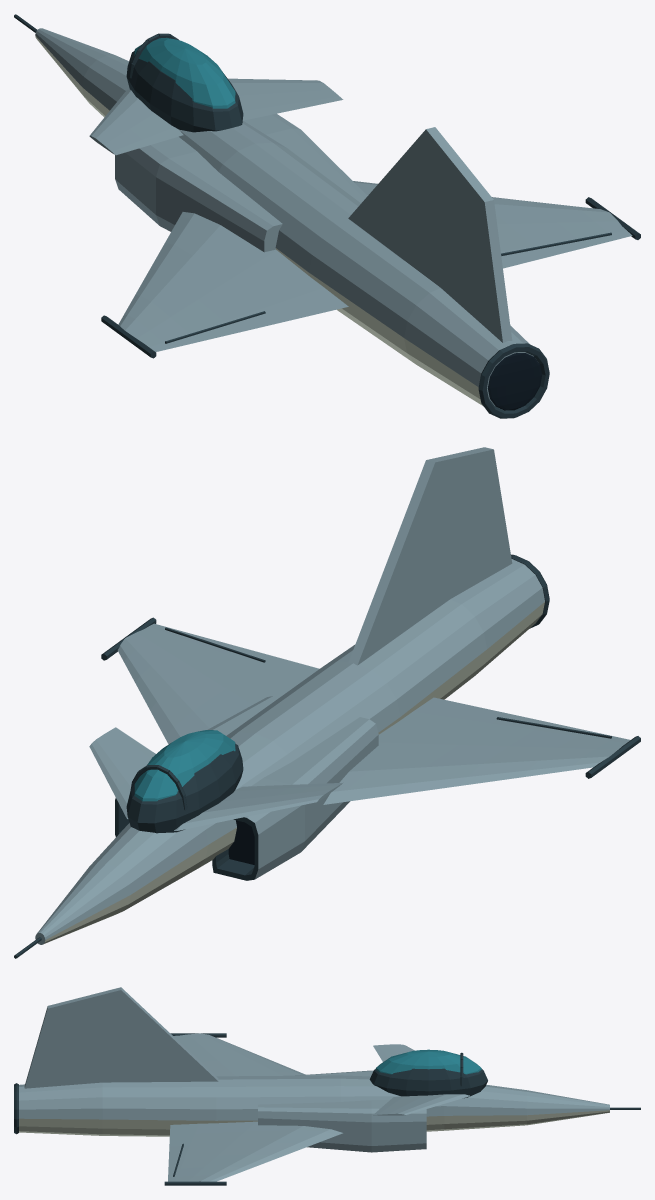
The model's file is archive-gripen-c.glb.
The picture shows the model from 3 angles, top to bottom: view 1: azimuth 30°, elevation 25°; view 2: azimuth 150°, elevation 25°; view 3: azimuth 270°, elevation 25°; orthographic projection. The views are drawn at different scales.
Visible parts, largest first — view 1: archive-gripen-c-fuselage.011-geometry, archive-gripen-c-wing_0_-1.011-geometry, archive-gripen-c-vertical_tail.011-geometry, archive-gripen-c-archive-gripen-c-geometry, archive-gripen-c-intake_0.003-geometry, archive-gripen-c-wing_0_1.011-geometry, archive-gripen-c-canard.002-geometry, archive-gripen-c-canard.003-geometry, archive-gripen-c-intake_1.002-geometry; view 2: archive-gripen-c-fuselage.011-geometry, archive-gripen-c-vertical_tail.011-geometry, archive-gripen-c-wing_0_-1.011-geometry, archive-gripen-c-wing_0_1.011-geometry, archive-gripen-c-archive-gripen-c-geometry, archive-gripen-c-intake_0.003-geometry, archive-gripen-c-canard.002-geometry, archive-gripen-c-canard.003-geometry, archive-gripen-c-intake_1.002-geometry; view 3: archive-gripen-c-fuselage.011-geometry, archive-gripen-c-vertical_tail.011-geometry, archive-gripen-c-wing_0_1.011-geometry, archive-gripen-c-intake_1.002-geometry, archive-gripen-c-archive-gripen-c-geometry, archive-gripen-c-wing_0_-1.011-geometry, archive-gripen-c-canard.003-geometry, archive-gripen-c-canard.002-geometry.
Part boxes in pixels (box(x1,y1,x2,y2)): archive-gripen-c-fuselage.011-geometry: box(35, 28, 533, 409); archive-gripen-c-wing_0_-1.011-geometry: box(118, 212, 348, 351); archive-gripen-c-vertical_tail.011-geometry: box(348, 127, 512, 342); archive-gripen-c-archive-gripen-c-geometry: box(14, 14, 640, 418); archive-gripen-c-intake_0.003-geometry: box(115, 136, 282, 252); archive-gripen-c-wing_0_1.011-geometry: box(353, 181, 632, 268); archive-gripen-c-canard.002-geometry: box(89, 89, 183, 155); archive-gripen-c-canard.003-geometry: box(228, 78, 343, 120); archive-gripen-c-intake_1.002-geometry: box(243, 113, 367, 203); archive-gripen-c-fuselage.011-geometry: box(35, 559, 544, 944); archive-gripen-c-vertical_tail.011-geometry: box(348, 447, 512, 665); archive-gripen-c-wing_0_-1.011-geometry: box(323, 697, 630, 804); archive-gripen-c-wing_0_1.011-geometry: box(117, 623, 319, 744); archive-gripen-c-archive-gripen-c-geometry: box(14, 554, 640, 958); archive-gripen-c-intake_0.003-geometry: box(212, 717, 378, 880); archive-gripen-c-canard.002-geometry: box(174, 782, 343, 830); archive-gripen-c-canard.003-geometry: box(89, 727, 155, 818); archive-gripen-c-intake_1.002-geometry: box(115, 696, 279, 836); archive-gripen-c-fuselage.011-geometry: box(19, 1075, 609, 1136); archive-gripen-c-vertical_tail.011-geometry: box(24, 987, 218, 1088); archive-gripen-c-wing_0_1.011-geometry: box(168, 1121, 342, 1181); archive-gripen-c-intake_1.002-geometry: box(258, 1100, 426, 1152); archive-gripen-c-archive-gripen-c-geometry: box(14, 1033, 640, 1185); archive-gripen-c-wing_0_-1.011-geometry: box(173, 1033, 305, 1076); archive-gripen-c-canard.003-geometry: box(373, 1094, 469, 1115); archive-gripen-c-canard.002-geometry: box(373, 1044, 414, 1061).
Size of the model in its own units: 3.42 by 1.55 by 6.06.
